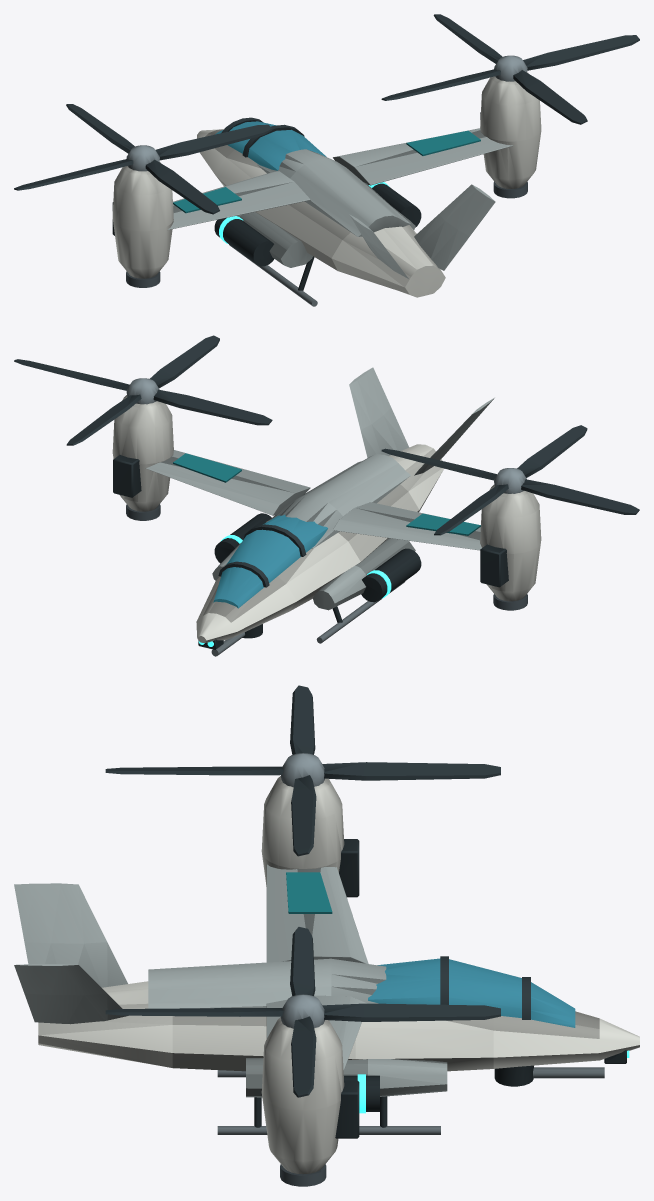
File: WraithTiltrotor.glb
3 views of the same model, one above another, from view 1: azimuth 30°, elevation 25°; view 2: azimuth 150°, elevation 25°; view 3: azimuth 270°, elevation 25° (orthographic). The views are drawn at different scales.
Visible parts, largest first — view 1: export_helix_WraithTiltrotor_Body, export_helix_WraithTiltrotor_Fan_RotorRight_Spinner, export_helix_WraithTiltrotor_Fan_RotorLeft_Spinner; view 2: export_helix_WraithTiltrotor_Body, export_helix_WraithTiltrotor_Fan_RotorRight_Spinner, export_helix_WraithTiltrotor_Fan_RotorLeft_Spinner; view 3: export_helix_WraithTiltrotor_Body, export_helix_WraithTiltrotor_Fan_RotorLeft_Spinner, export_helix_WraithTiltrotor_Fan_RotorRight_Spinner.
Part boxes in pixels (x1,y1,x2,y2): export_helix_WraithTiltrotor_Body: (112, 72, 541, 306); export_helix_WraithTiltrotor_Fan_RotorRight_Spinner: (381, 14, 639, 124); export_helix_WraithTiltrotor_Fan_RotorLeft_Spinner: (14, 104, 272, 214); export_helix_WraithTiltrotor_Body: (112, 367, 541, 656); export_helix_WraithTiltrotor_Fan_RotorRight_Spinner: (14, 335, 272, 445); export_helix_WraithTiltrotor_Fan_RotorLeft_Spinner: (381, 425, 639, 535); export_helix_WraithTiltrotor_Body: (14, 776, 639, 1186); export_helix_WraithTiltrotor_Fan_RotorLeft_Spinner: (105, 685, 500, 856); export_helix_WraithTiltrotor_Fan_RotorRight_Spinner: (105, 927, 500, 1097).
Bounding box in the file's own units: 7.92 × 2.09 × 5.13.
